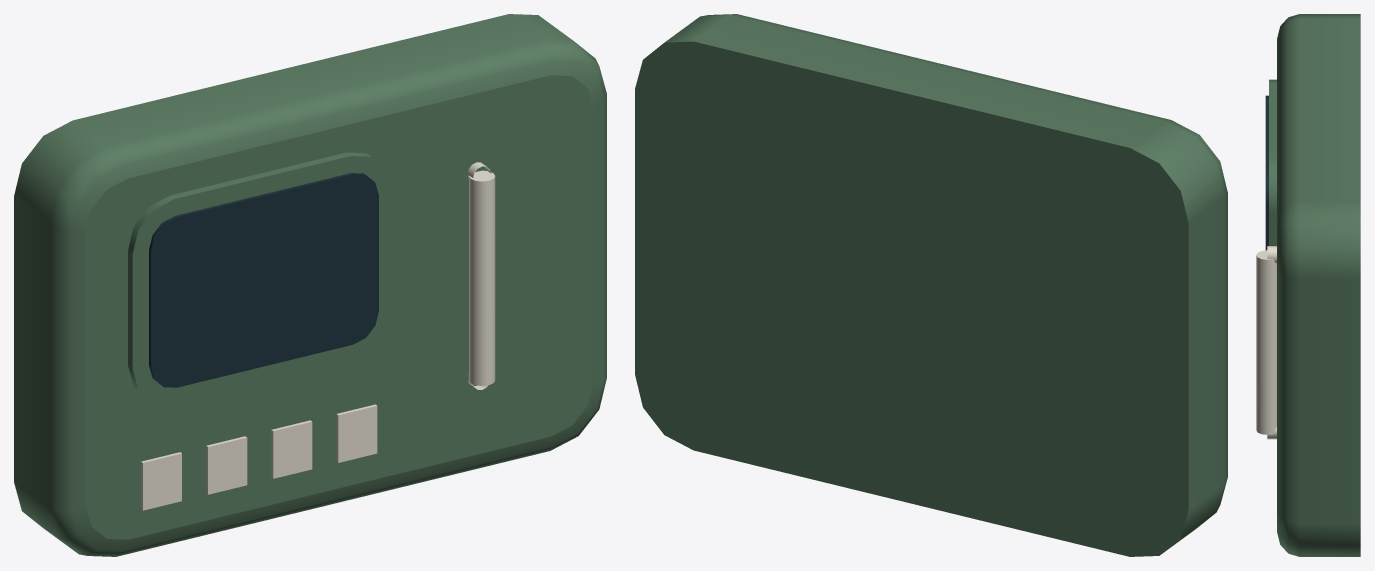
3 views of the same model, side by side, from view 1: azimuth 30°, elevation 25°; view 2: azimuth 150°, elevation 25°; view 3: azimuth 270°, elevation 25° (orthographic). The views are drawn at different scales.
Parts seen in each view (by area): view 1: t60_o2; view 2: t60_o2; view 3: t60_o2.
Boxes of the visible parts, x1,y1,x2,y2 form: t60_o2: (14,14,606,556); t60_o2: (635,14,1227,556); t60_o2: (1256,14,1360,556).
Size of the model in its own units: 1.7 by 1.2 by 0.325.
